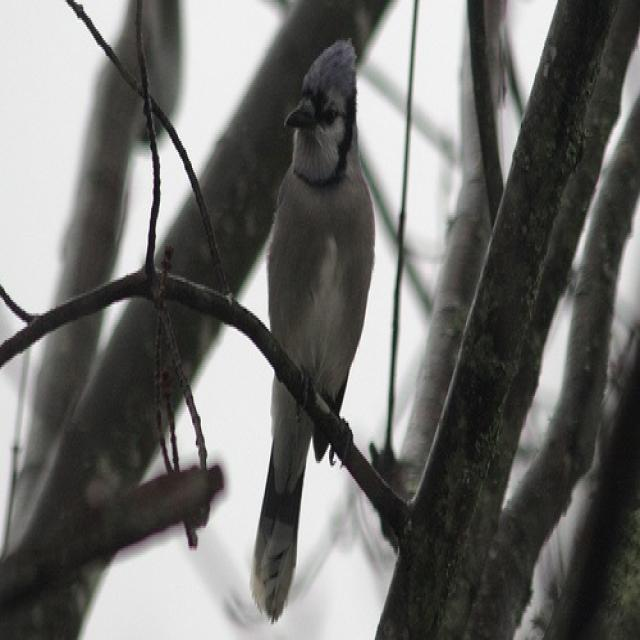bird: (250, 38, 375, 624)
